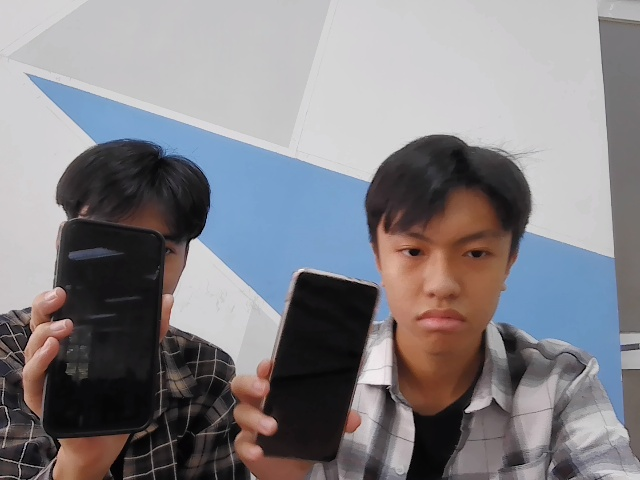human: (373, 138, 530, 359)
phone: (43, 216, 158, 436), (250, 268, 379, 463)
